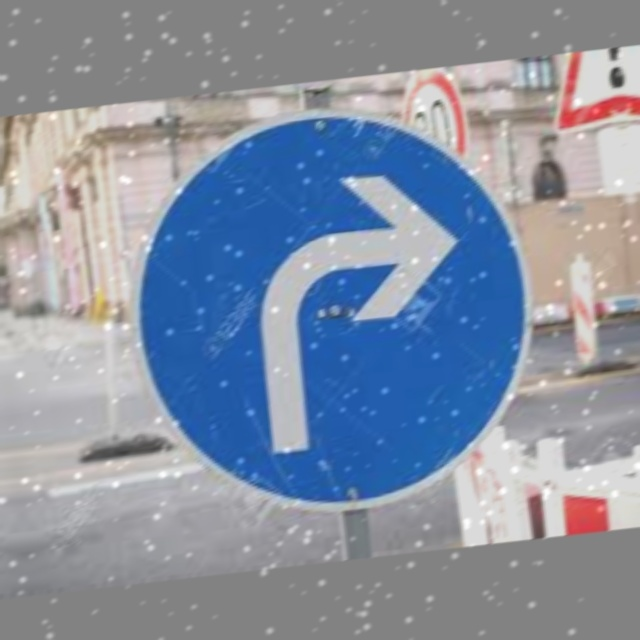Compulsory_Turn_Right_Ahead: (125, 93, 552, 509)
